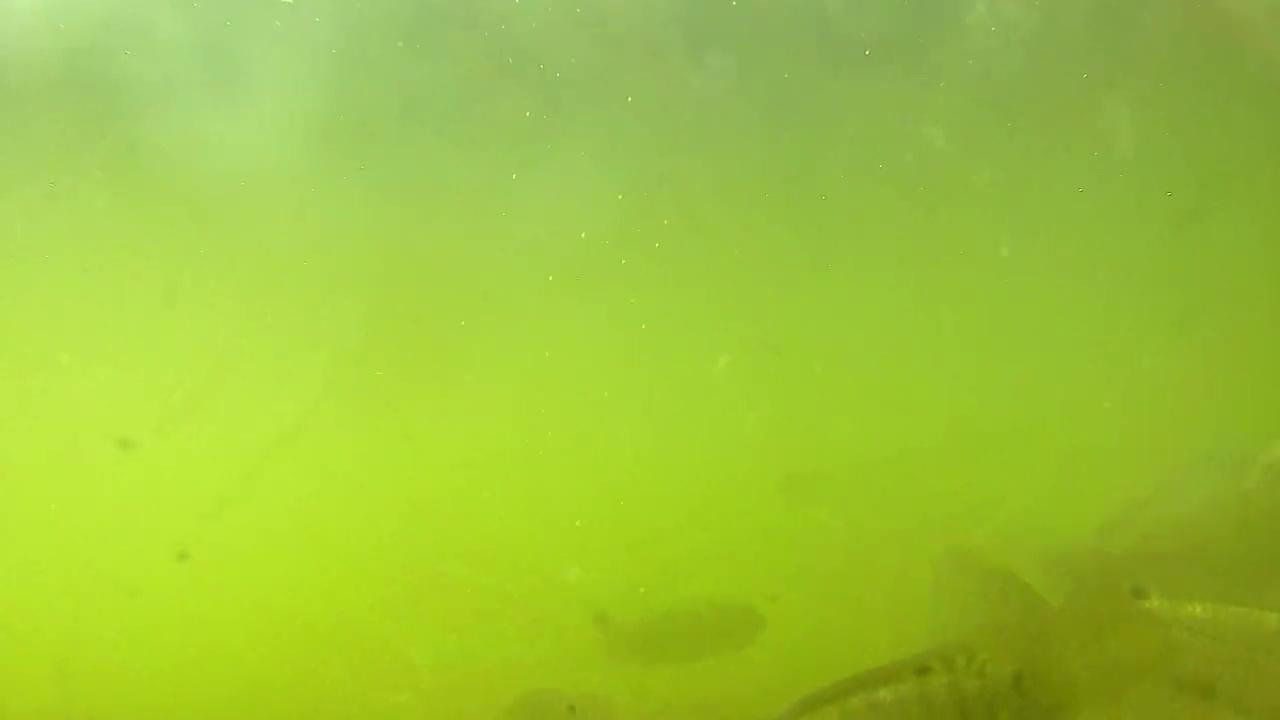Tilapia: (579, 570, 774, 682)
